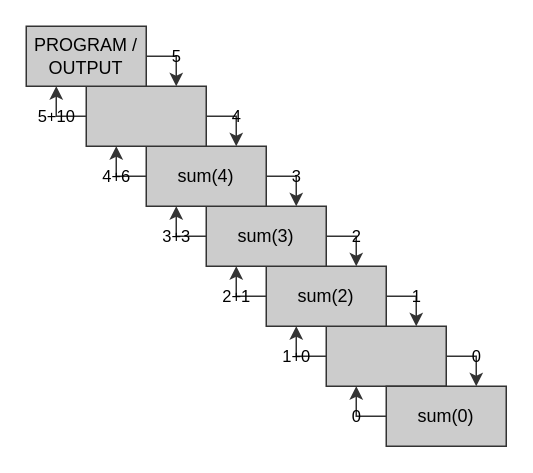
Image size: 533x473. Some labels were removed from this diagram. The box of each missing label's shape, as (x1, y1, x2, y2) in pixels:
reverse: (85, 85, 206, 146)
sum(1): (325, 325, 446, 386)
